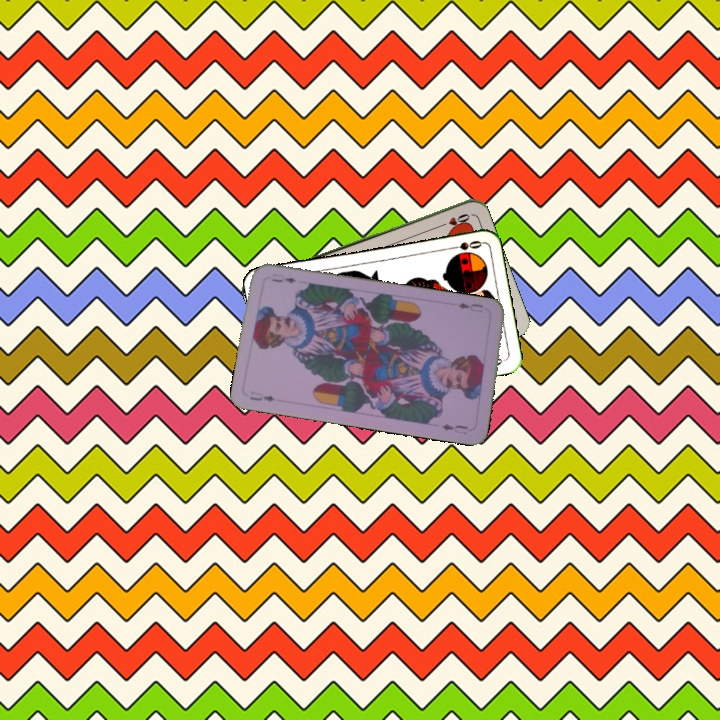EU: (246, 387, 277, 404), (453, 299, 485, 315)
HO: (434, 209, 473, 231)
SO: (444, 236, 484, 253)
